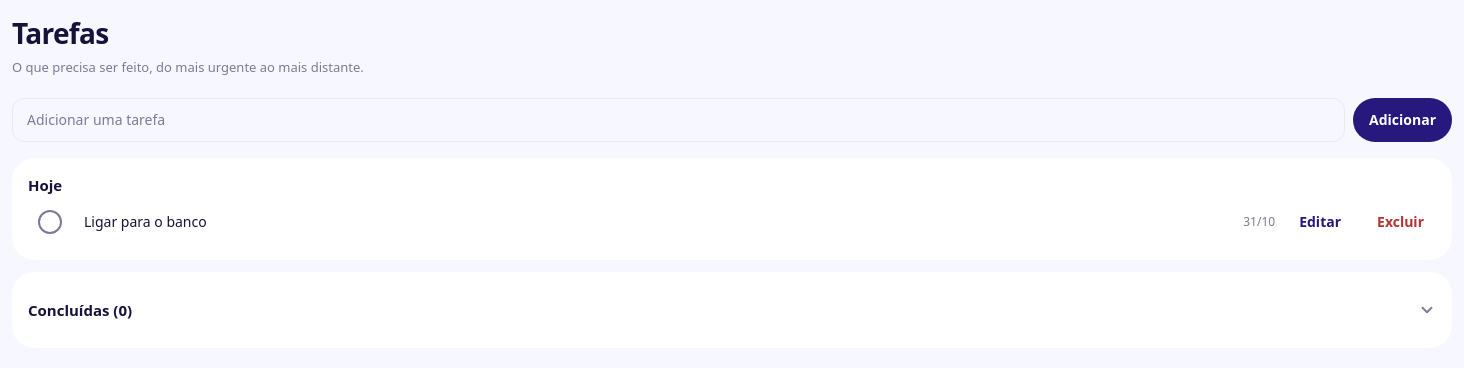
Test: TarefasPage › editarTituloEDataEnviaPut
Click the button with aria-label "Editar tarefa Ligar para o banco". click: (1320, 222)
box: x1=1287 y1=200 x2=1353 y2=244
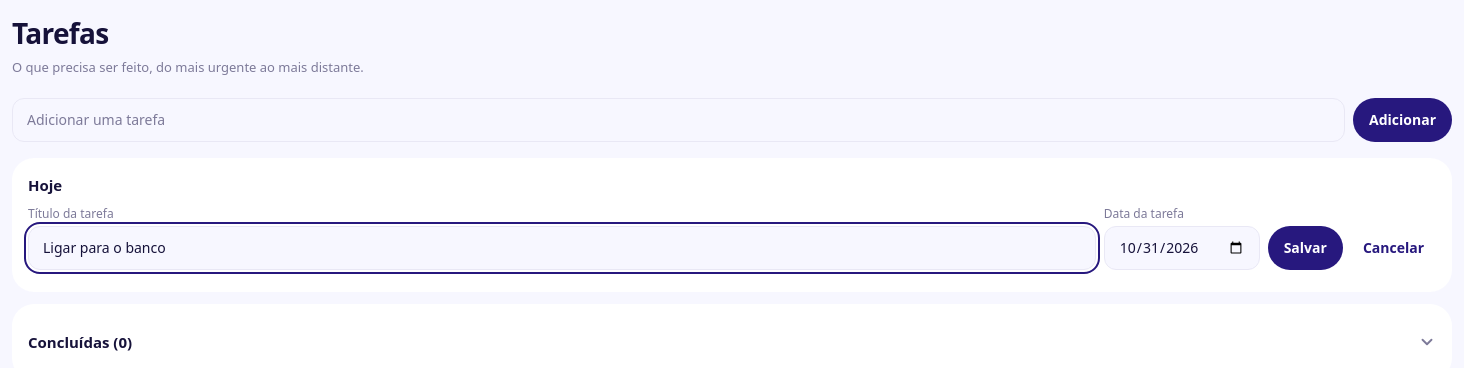
Replace the text in the field labelled "Título da tarefa" with "Ligar para a escola". click: (562, 248)
box: x1=28 y1=226 x2=1096 y2=270
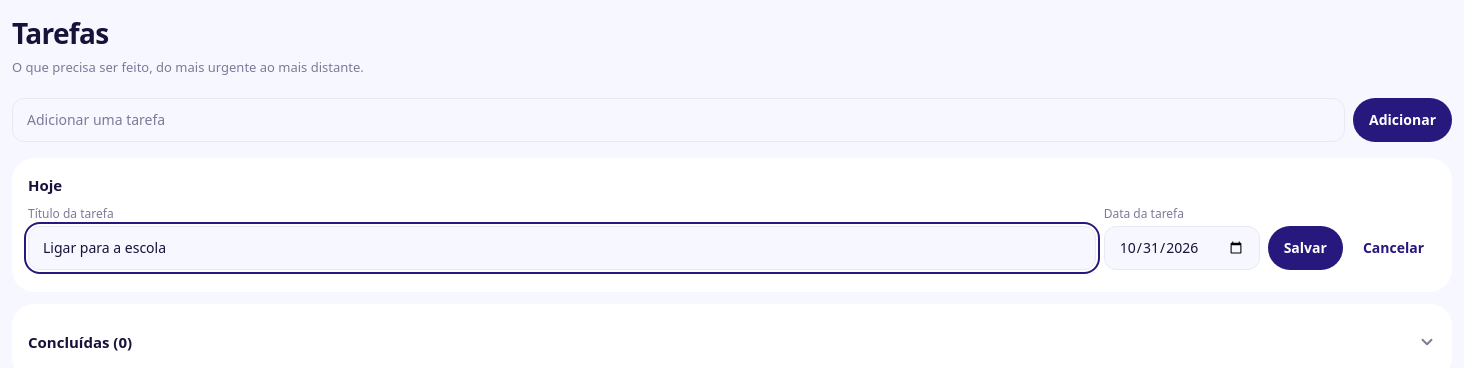
Type "2026-11-03" into the date field labelled "Data da tarefa". click: (1182, 248)
box: x1=1104 y1=226 x2=1260 y2=270
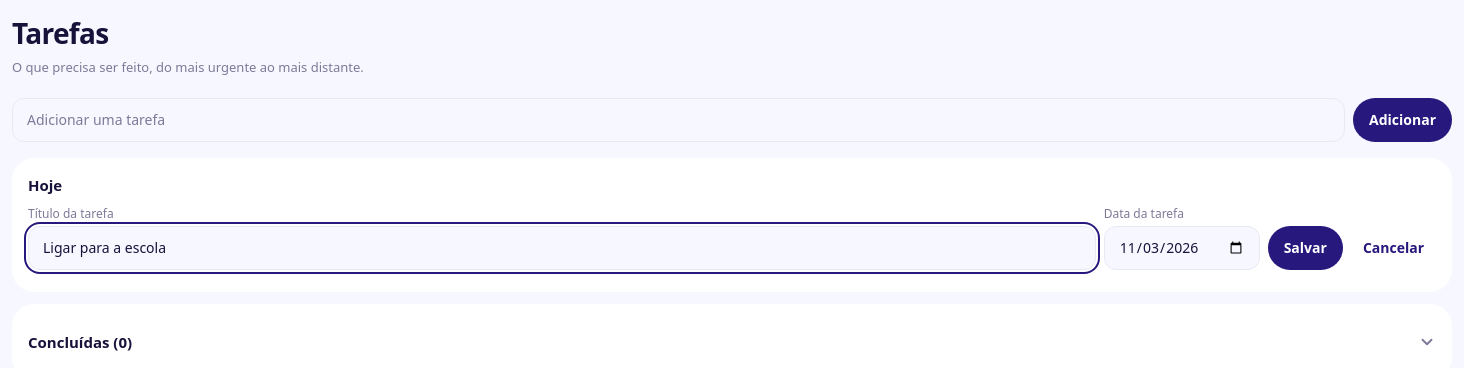
Click the button "Salvar". click: (1305, 248)
box: x1=1268 y1=226 x2=1343 y2=270
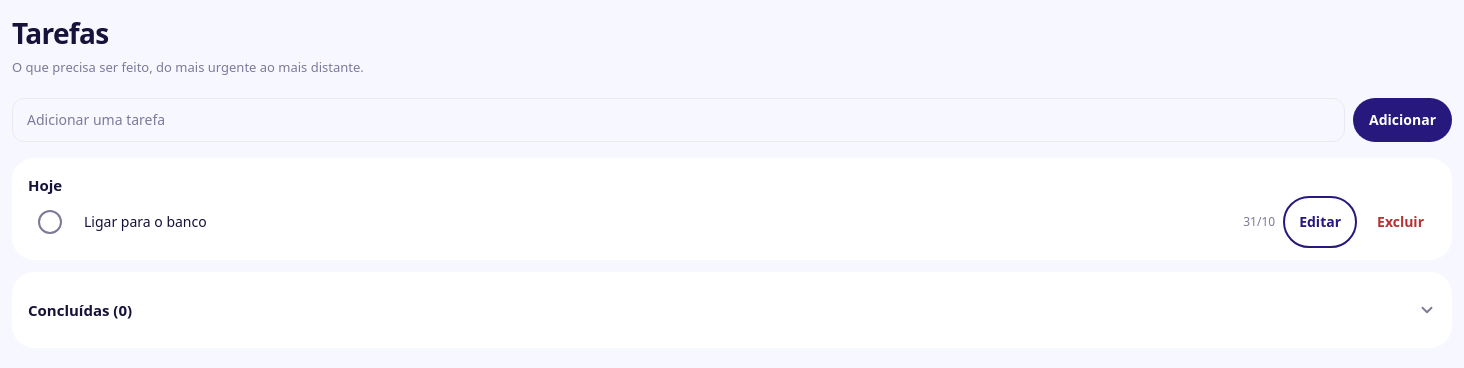
Check: the label "Título da tarefa" is gone
